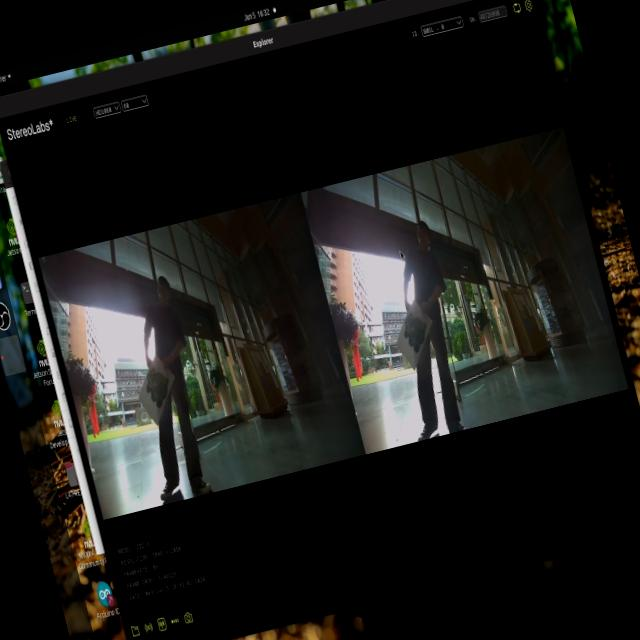green: (138, 362, 182, 410), (399, 304, 435, 356)
